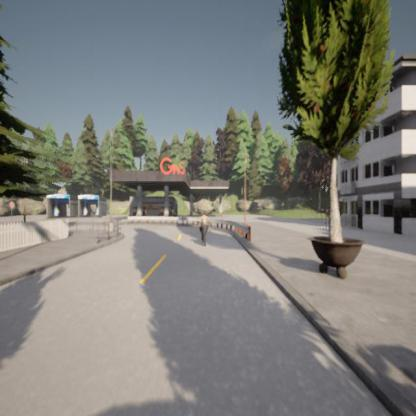motobike: (199, 214, 211, 244)
